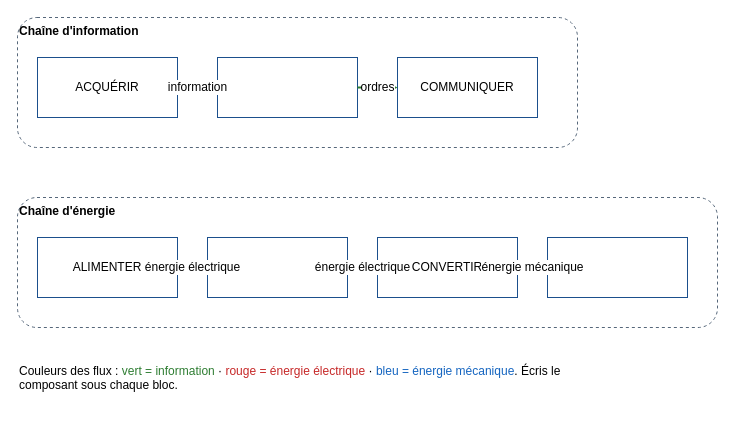
Some shapes in this 735 by 425 pixel diagram are drawn without their labels. The shapes that lost their labels are listed below. From the top down, each one's centre as x and y in pixels, then its label:
At (x=287, y=87): "TRAITER".
At (x=277, y=267): "DISTRIBUER".
At (x=617, y=267): "TRANSMETTRE".
